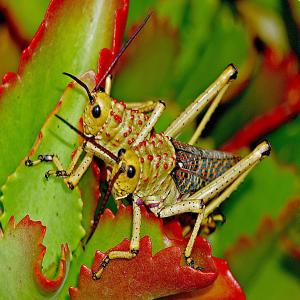locust: (106, 134, 279, 233), (70, 81, 183, 140)
